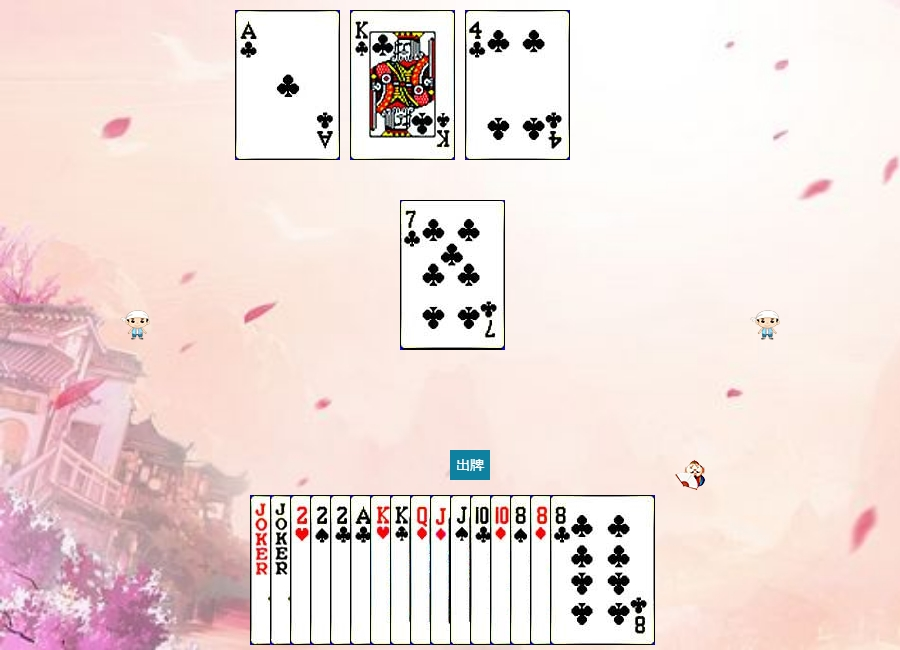10~1: (490, 495, 595, 645)
10~2: (470, 495, 575, 645)
11~1: (430, 495, 535, 645)
11~4: (450, 495, 555, 645)
12~1: (410, 495, 515, 645)
13~2: (350, 10, 455, 160), (390, 495, 495, 645)
13~3: (370, 495, 475, 645)
14~2: (235, 10, 340, 160), (350, 495, 455, 645)
15~2: (330, 495, 435, 645)
15~3: (290, 495, 395, 645)
15~4: (310, 495, 415, 645)
17~3: (270, 495, 375, 645)
18~4: (250, 495, 355, 645)
4~2: (465, 10, 570, 160)
7~2: (400, 200, 505, 350)
8~1: (530, 495, 635, 645)
8~2: (550, 495, 655, 645)
8~4: (510, 495, 615, 645)
